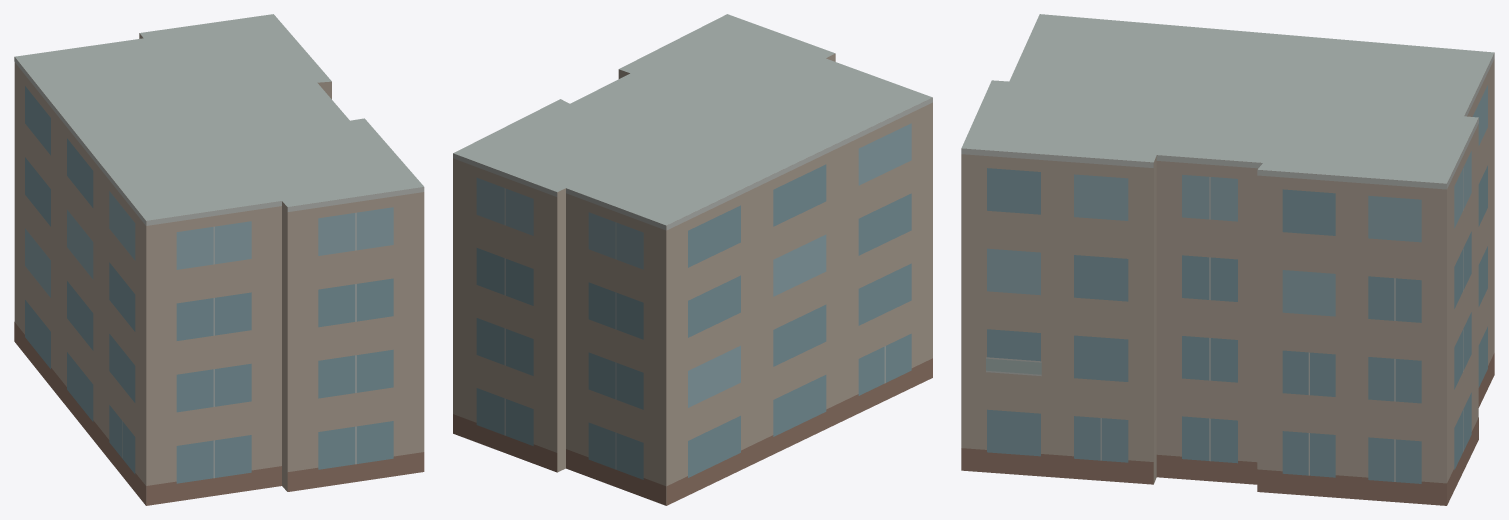
File: survey-upis-32797517.glb
The picture shows the model from 3 angles, left to right: view 1: azimuth 30°, elevation 25°; view 2: azimuth 150°, elevation 25°; view 3: azimuth 270°, elevation 25°; orthographic projection. The views are drawn at different scales.
Visible parts, largest first — view 1: survey-upis-32797517.tmp; view 2: survey-upis-32797517.tmp; view 3: survey-upis-32797517.tmp.
Boxes of the visible parts, bbox=[...] form: survey-upis-32797517.tmp: bbox=[14, 14, 424, 505]; survey-upis-32797517.tmp: bbox=[453, 14, 932, 505]; survey-upis-32797517.tmp: bbox=[961, 14, 1494, 505].
Size of the model in its own units: 15.37 by 13.6 by 20.41.
